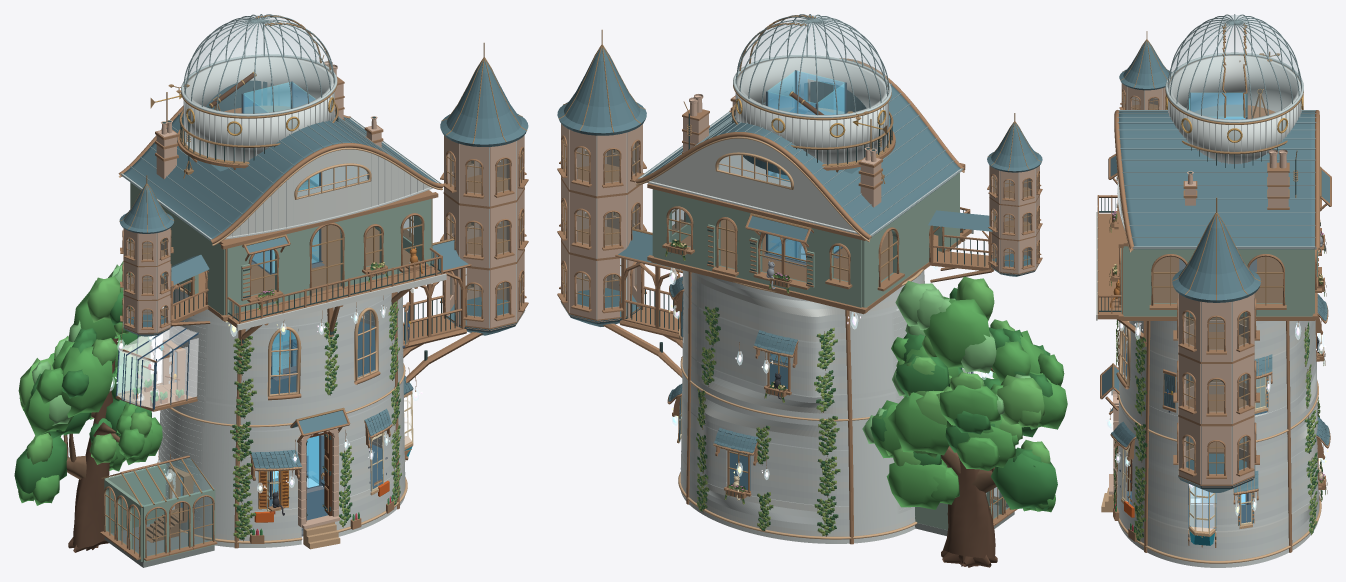
Rendered from mansion-v07.glb.
The picture shows the model from 3 angles, left to right: view 1: azimuth 30°, elevation 25°; view 2: azimuth 150°, elevation 25°; view 3: azimuth 270°, elevation 25°; orthographic projection.
Visible parts, largest first — view 1: M01_Reuse_TREE_Left_Foliage, M01_Reuse_CURVE_BellGable_SlateRoof, M01_Reuse_ObsDome_Curved, M01_Reuse_CURVE_Observatory_CylindricalDrum, M01_Reuse_CURVE_ArchedGable_PaintedTimber, M01_Tower_WitchHat, M01_Reuse_TREE_Left_Trunk, M01_UpperFloor_Slab, M01_Conservatory_RoofGlass, M01_Conservatory_Back, M04_WestPassage, M01_Reuse_CURVE_Roof_Soffit (+45 smaller); view 2: M01_Reuse_TREE_Left_Foliage, M01_Reuse_CURVE_BellGable_SlateRoof, M01_Reuse_ObsDome_Curved, M01_Reuse_CURVE_Observatory_CylindricalDrum, M01_Reuse_CURVE_ArchedGable_Rear, M01_Reuse_TREE_Left_Trunk, M01_Tower_WitchHat, M01_UpperFloor_Slab, M04_WestPassage, M01_Reuse_CURVE_Roof_Soffit, M04_WestTurret_M01_Tower_WitchHat, M01_Reuse_CURVE_Gable_Back_Bargeboard (+65 smaller); view 3: M01_Reuse_CURVE_BellGable_SlateRoof, M01_Reuse_CURVE_Observatory_CylindricalDrum, M01_Reuse_ObsDome_Curved, M01_Tower_WitchHat, M01_UpperFloor_Slab, M01_UpperFloor_Side_L.002, M01_UpperFloor_Side_R.003, M01_GrandBalcony_Deck, M04_WestTurret_M01_Tower_WitchHat, M05_Elevator_Shaft_Glass_West, M01_UpperFloor_Side_Glass.004, M01_Reuse_CURVE_Right_Clapboard_02 (+87 smaller).
Part boxes in pixels (x1,y1,x2,y2): M01_Reuse_TREE_Left_Foliage: [14, 261, 162, 505]; M01_Reuse_CURVE_BellGable_SlateRoof: [122, 80, 436, 240]; M01_Reuse_ObsDome_Curved: [184, 15, 333, 113]; M01_Reuse_CURVE_Observatory_CylindricalDrum: [184, 56, 333, 161]; M01_Reuse_CURVE_ArchedGable_PaintedTimber: [228, 147, 429, 236]; M01_Tower_WitchHat: [440, 60, 528, 146]; M01_Reuse_TREE_Left_Trunk: [63, 338, 154, 552]; M01_UpperFloor_Slab: [177, 225, 419, 321]; M01_Conservatory_RoofGlass: [123, 458, 214, 506]; M01_Conservatory_Back: [104, 463, 166, 533]; M04_WestPassage: [150, 254, 210, 326]; M01_Reuse_CURVE_Roof_Soffit: [121, 118, 439, 240]; M01_Reuse_TREE_Left_Foliage: [862, 276, 1067, 512]; M01_Reuse_CURVE_BellGable_SlateRoof: [642, 81, 961, 237]; M01_Reuse_ObsDome_Curved: [737, 15, 887, 114]; M01_Reuse_CURVE_Observatory_CylindricalDrum: [736, 57, 888, 163]; M01_Reuse_CURVE_ArchedGable_Rear: [650, 136, 854, 230]; M01_Reuse_TREE_Left_Trunk: [941, 368, 997, 567]; M01_Tower_WitchHat: [557, 47, 646, 135]; M01_UpperFloor_Slab: [651, 219, 961, 314]; M04_WestPassage: [928, 210, 996, 282]; M01_Reuse_CURVE_Roof_Soffit: [639, 112, 962, 237]; M04_WestTurret_M01_Tower_WitchHat: [987, 123, 1042, 172]; M01_Reuse_CURVE_Gable_Back_Bargeboard: [635, 132, 871, 239]; M01_Reuse_CURVE_BellGable_SlateRoof: [1119, 111, 1316, 249]; M01_Reuse_CURVE_Observatory_CylindricalDrum: [1168, 55, 1300, 163]; M01_Reuse_ObsDome_Curved: [1169, 15, 1300, 119]; M01_Tower_WitchHat: [1172, 215, 1260, 302]; M01_UpperFloor_Slab: [1121, 256, 1315, 320]; M01_UpperFloor_Side_L.002: [1123, 246, 1152, 316]; M01_UpperFloor_Side_R.003: [1284, 249, 1313, 316]; M01_GrandBalcony_Deck: [1097, 213, 1118, 319]; M04_WestTurret_M01_Tower_WitchHat: [1119, 41, 1171, 90]; M05_Elevator_Shaft_Glass_West: [1191, 92, 1245, 504]; M01_UpperFloor_Side_Glass.004: [1249, 257, 1282, 303]; M01_Reuse_CURVE_Right_Clapboard_02: [1147, 534, 1288, 555].
Bounding box in the file's own units: 36.61 × 35.14 × 14.88.
